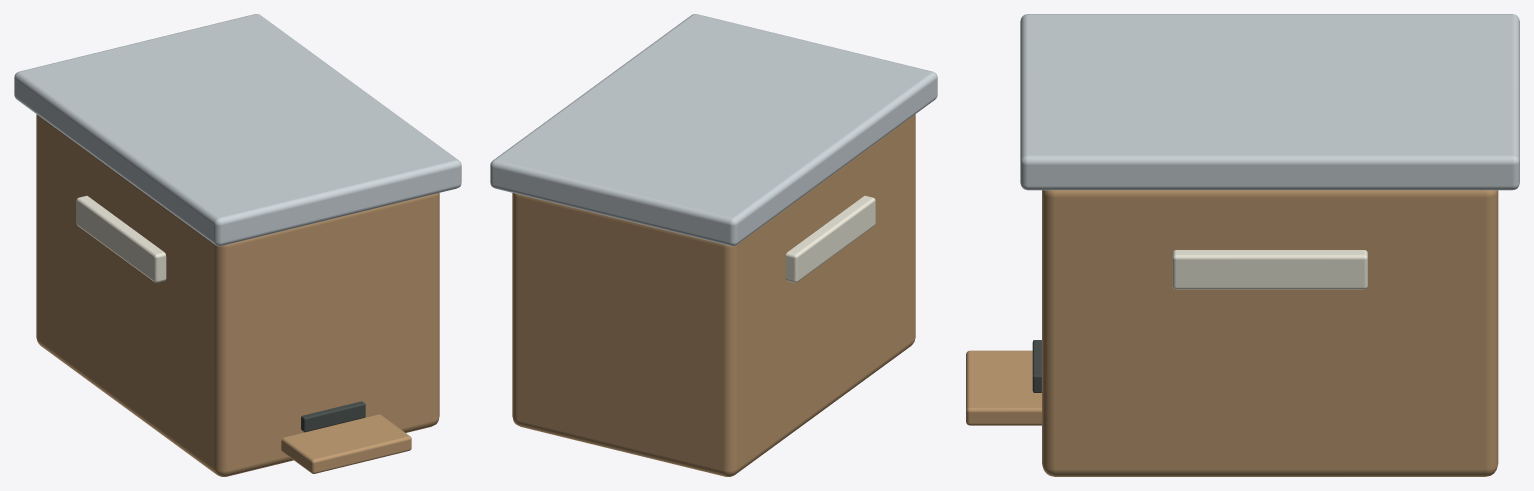
Rendered from beekeeping-and-honey-farm-nucleus-hive-c67b7f8a__30710.glb.
The picture shows the model from 3 angles, left to right: view 1: azimuth 30°, elevation 25°; view 2: azimuth 150°, elevation 25°; view 3: azimuth 270°, elevation 25°; orthographic projection. The views are drawn at different scales.
Visible parts, largest first — view 1: nucleus-hive; view 2: nucleus-hive; view 3: nucleus-hive.
Part boxes in pixels (x1,y1,x2,y2): nucleus-hive: (14, 14, 461, 476); nucleus-hive: (490, 14, 937, 476); nucleus-hive: (966, 14, 1519, 476).
Size of the model in its own units: 0.32 by 0.335 by 0.51.
